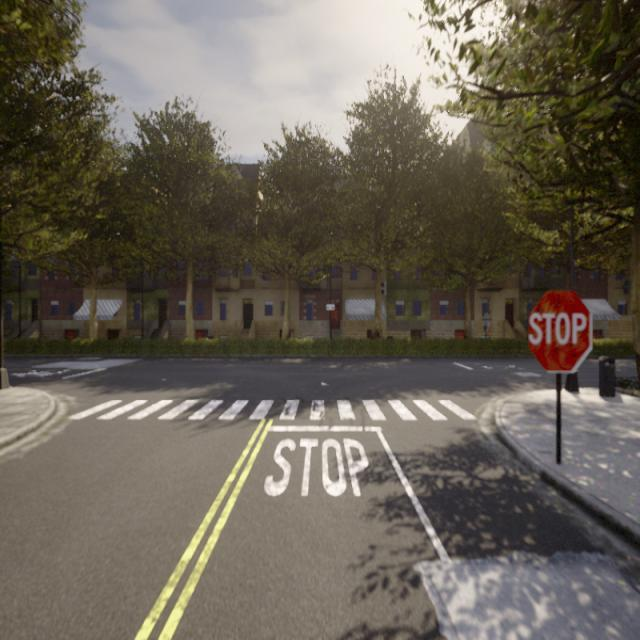stop sign: (524, 286, 594, 375), (528, 309, 588, 347)
